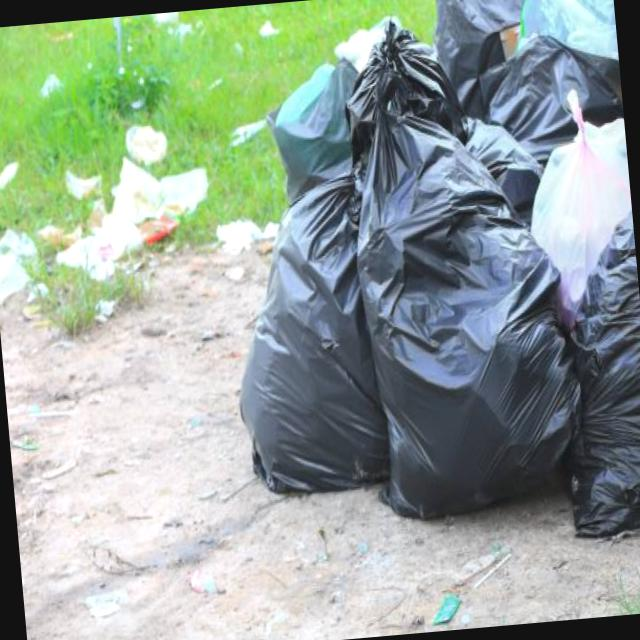garbage: (207, 0, 640, 565), (0, 104, 219, 340)
